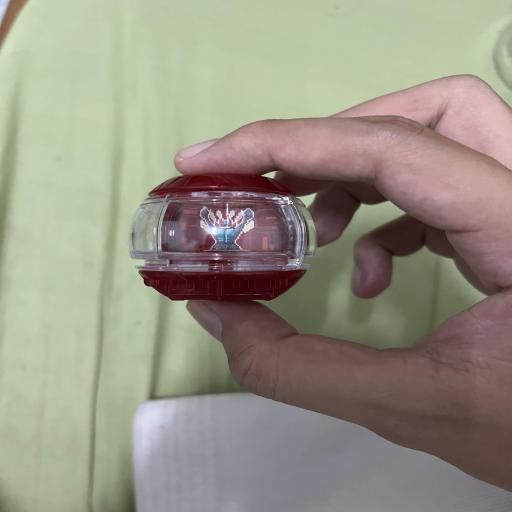capsem: (129, 174, 316, 300)
